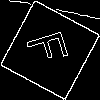F: (25, 25, 78, 68)
